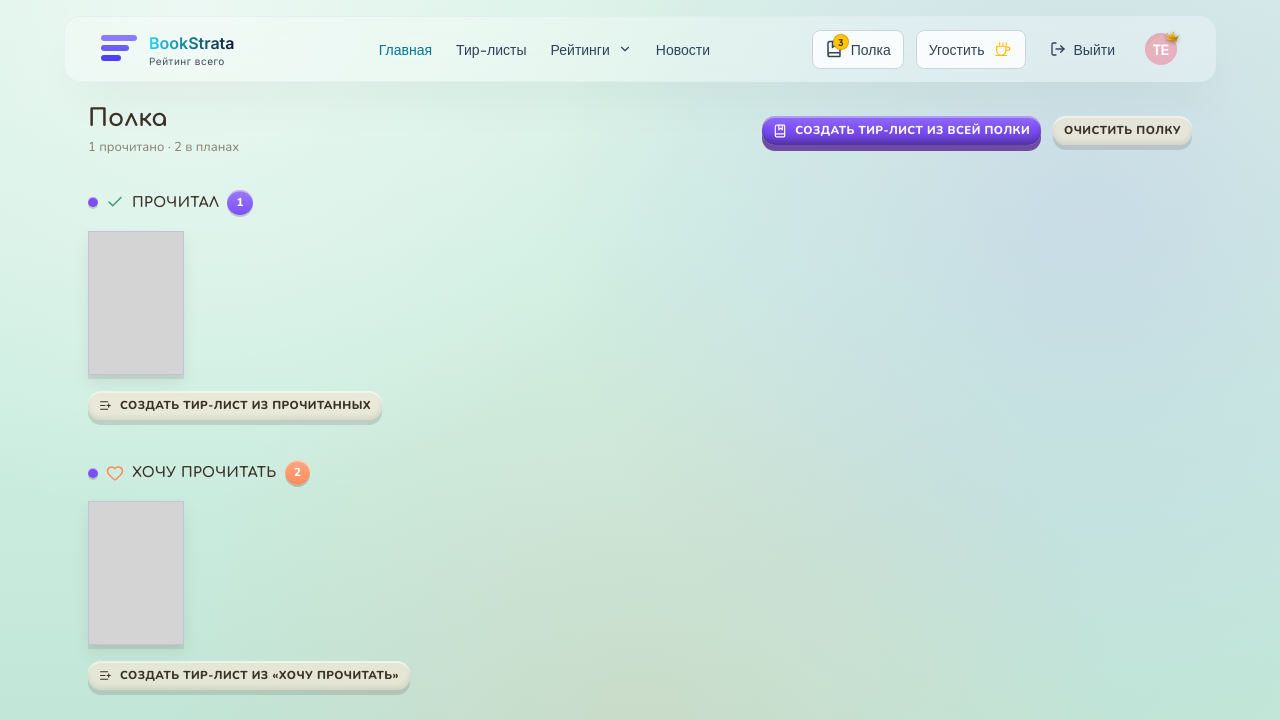
Test case: ShelfPage — создание тир-листа › авторизованный › открывает модалку создания (существующее поведение не сломано)
Click the button "Создать тир-лист из всей полки": (902, 131) x1=762 y1=116 x2=1041 y2=145
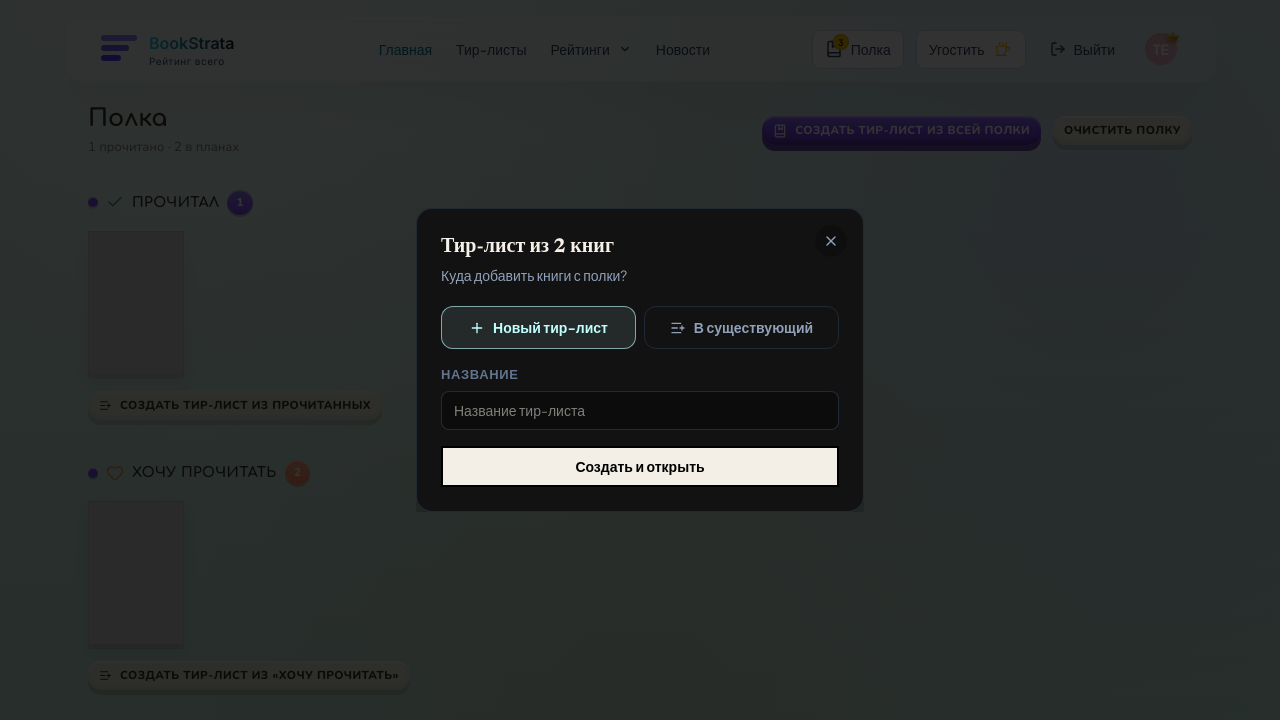
Expected: the text "Название" is shown, x1=441 y1=366 x2=519 y2=382
